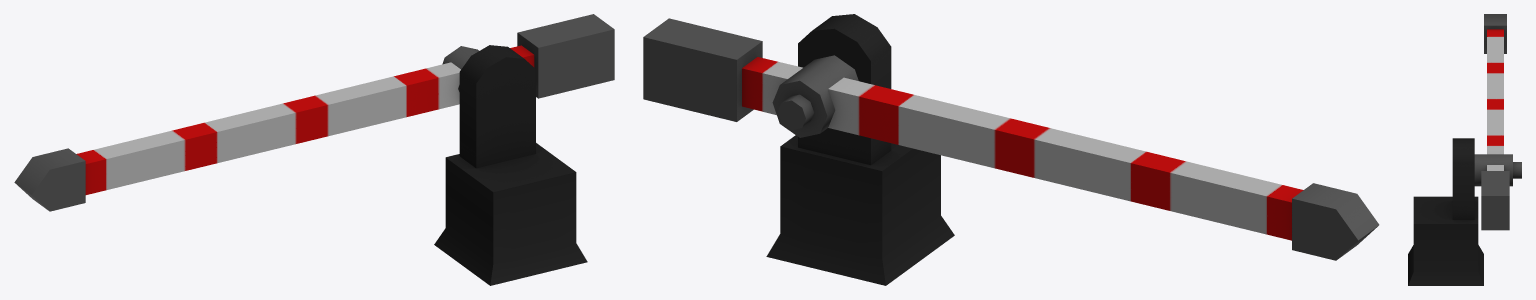
File: Signal 1.fbx
The picture shows the model from 3 angles, left to right: view 1: azimuth 30°, elevation 25°; view 2: azimuth 150°, elevation 25°; view 3: azimuth 270°, elevation 25°; orthographic projection. The views are drawn at different scales.
Visible parts, largest first — view 1: Barrier, Signal Stand; view 2: Barrier, Signal Stand; view 3: Signal Stand, Barrier.
Boxes of the visible parts, bbox=[...] form: Barrier: bbox=[14, 14, 614, 211]; Signal Stand: bbox=[434, 45, 587, 285]; Barrier: bbox=[643, 18, 1379, 260]; Signal Stand: bbox=[766, 14, 954, 285]; Signal Stand: bbox=[1408, 138, 1483, 285]; Barrier: bbox=[1474, 14, 1521, 230].
Size of the model in its own units: 1.53 by 0.4837 by 0.3839.
Materials: 1 (1 with a texture image).
